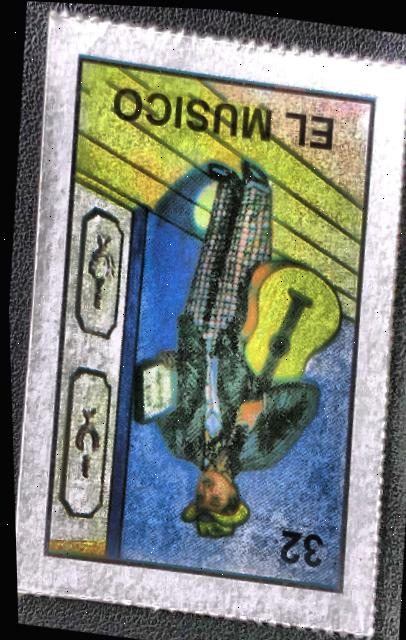El Musico: (6, 24, 406, 625)
